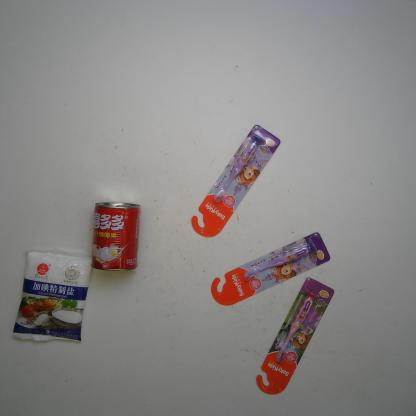Canned Food: (88, 198, 142, 272)
Personal Hygiene: (188, 122, 283, 239), (254, 276, 336, 396), (209, 230, 332, 307)
Seasoner: (8, 243, 94, 347)
